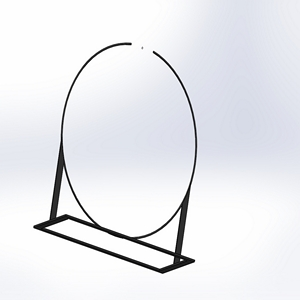circle: (31, 40, 200, 274)
